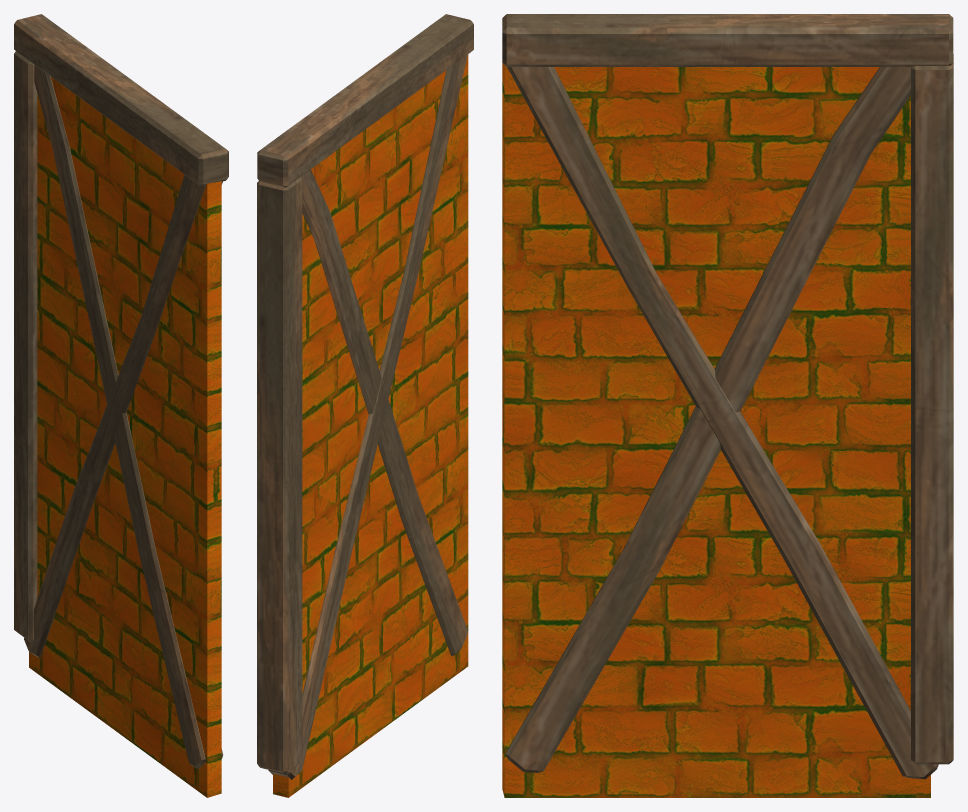
The model's file is SM_wall_09.fbx.
3 views of the same model, side by side, from view 1: azimuth 30°, elevation 25°; view 2: azimuth 150°, elevation 25°; view 3: azimuth 270°, elevation 25° (orthographic). The views are drawn at different scales.
Visible parts, largest first — view 1: SM_wall_09_LOD0; view 2: SM_wall_09_LOD0; view 3: SM_wall_09_LOD0.
Part boxes in pixels (x1,y1,x2,y2): SM_wall_09_LOD0: (14, 14, 228, 797); SM_wall_09_LOD0: (257, 14, 473, 797); SM_wall_09_LOD0: (502, 14, 953, 797).
Size of the model in its own units: 20 by 212 by 400.
2 materials, 2 textured.
